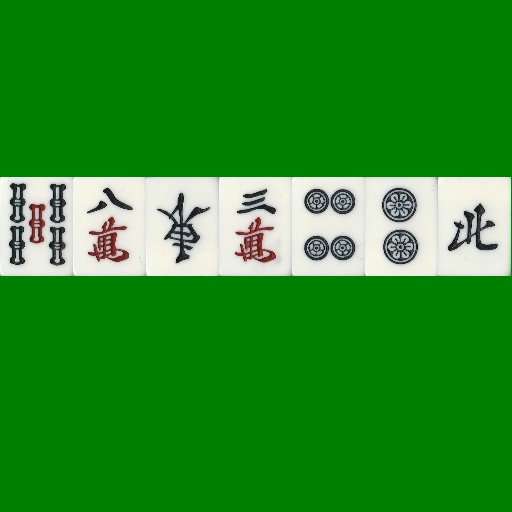2p: (365, 177, 438, 276)
3m: (219, 177, 292, 276)
4p: (292, 177, 365, 276)
5s: (0, 177, 73, 276)
8m: (73, 177, 146, 276)
east: (146, 177, 219, 276)
north: (438, 177, 511, 276)
